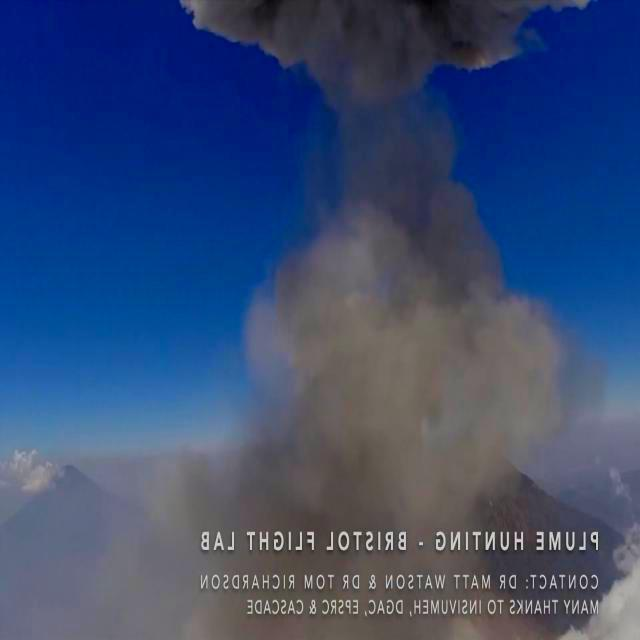Plume: (230, 144, 560, 524), (156, 0, 594, 91)
